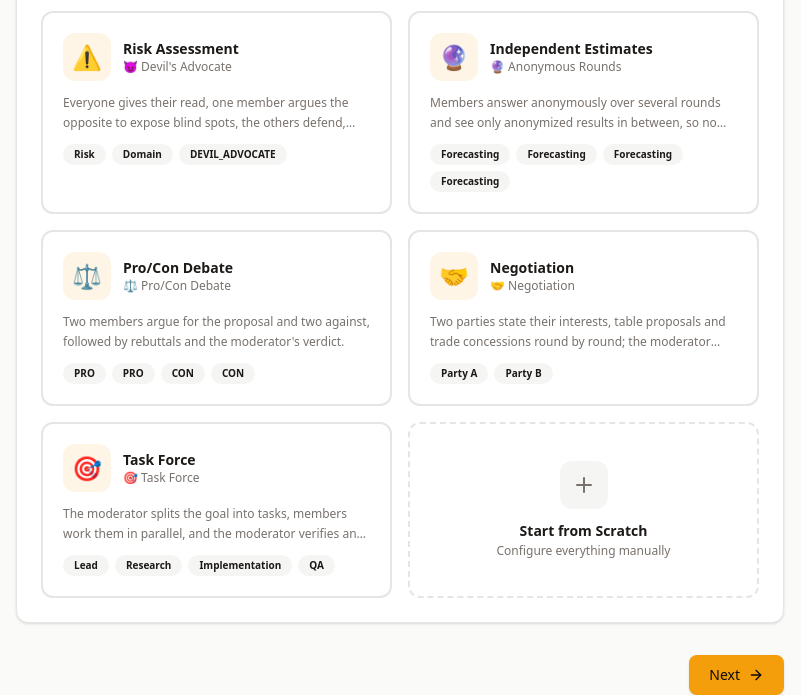
Test: GroupWizardPage › HITL configuration › enabling human approval reveals phase gates with one sensible default
(page scrolled)
Step 1. Click the button with test id "template-blank" → (584,510), box [408, 422, 759, 598]
(page scrolled)
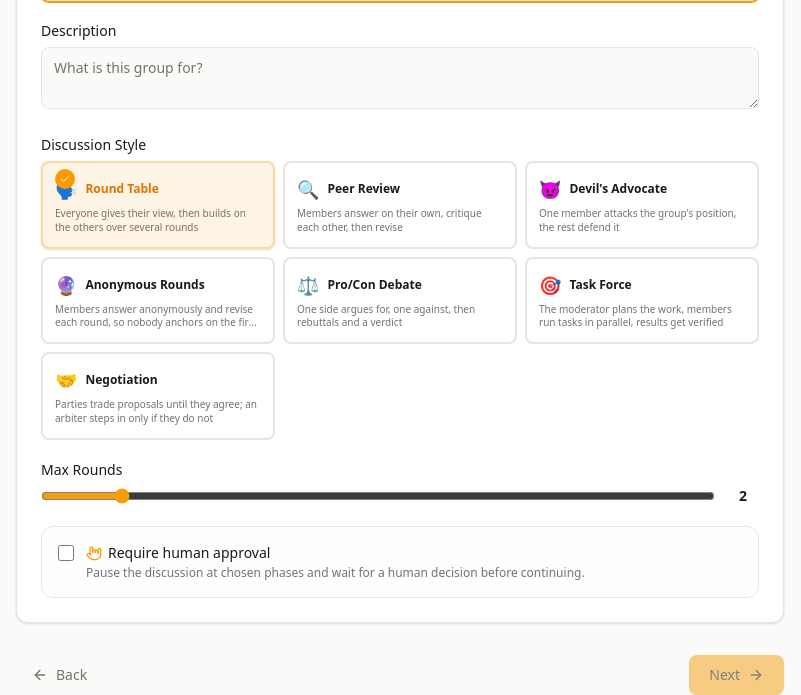
Step 2. Click the checkbox with test id "gw-hitl-enable" → (66,552), box [58, 544, 74, 560]
(page scrolled)
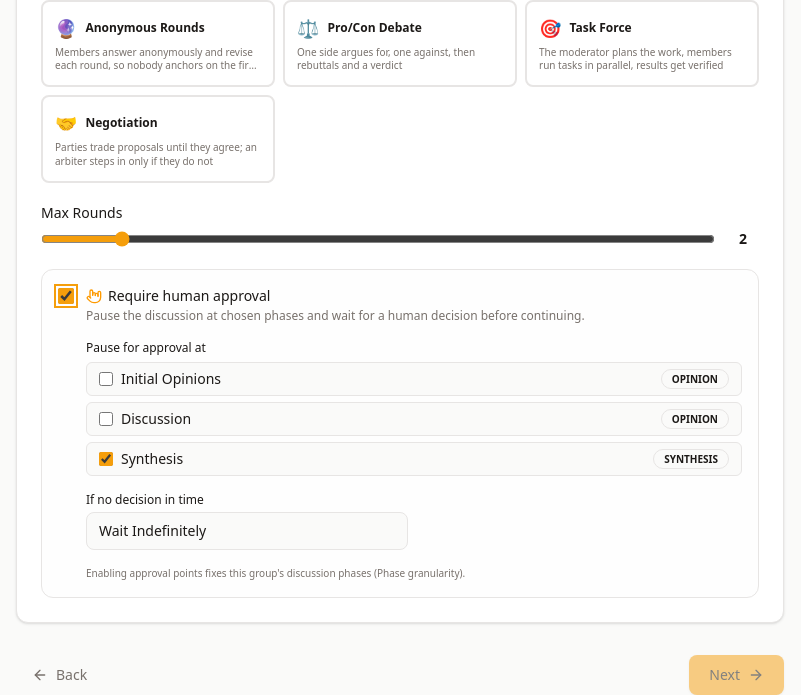
Result: the dropdown with test id "gw-hitl-policy" is shown at [86, 512, 408, 550]
